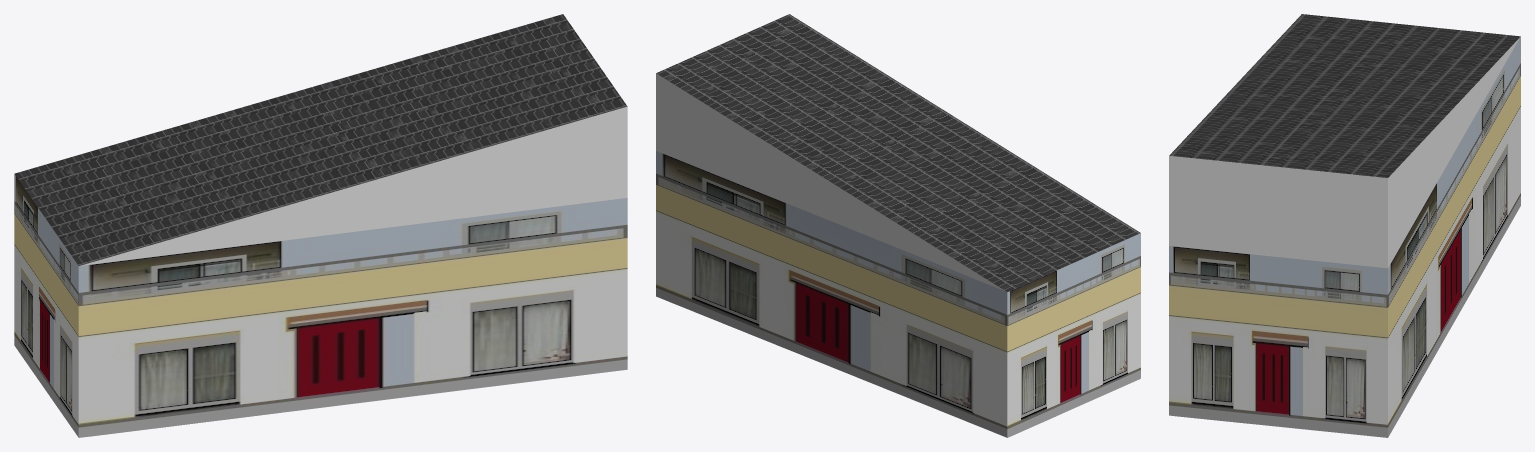
The picture shows the model from 3 angles, left to right: view 1: azimuth 30°, elevation 25°; view 2: azimuth 150°, elevation 25°; view 3: azimuth 270°, elevation 25°; orthographic projection. The views are drawn at different scales.
Parts seen in each view (by area): view 1: CityEngineMaterial_15_m, CityEngineMaterial_16_m, CityEngineMaterial_3_m; view 2: CityEngineMaterial_15_m, CityEngineMaterial_16_m, CityEngineMaterial_3_m; view 3: CityEngineMaterial_15_m, CityEngineMaterial_16_m, CityEngineMaterial_3_m.
Boxes of the visible parts, bbox=[...] form: CityEngineMaterial_15_m: bbox=[14, 174, 627, 437]; CityEngineMaterial_16_m: bbox=[14, 14, 627, 265]; CityEngineMaterial_3_m: bbox=[80, 106, 627, 265]; CityEngineMaterial_15_m: bbox=[656, 151, 1140, 437]; CityEngineMaterial_16_m: bbox=[656, 14, 1140, 291]; CityEngineMaterial_3_m: bbox=[656, 73, 1006, 291]; CityEngineMaterial_15_m: bbox=[1169, 36, 1520, 437]; CityEngineMaterial_16_m: bbox=[1169, 14, 1520, 177]; CityEngineMaterial_3_m: bbox=[1169, 37, 1520, 268].
Bounding box in the file's own units: 25.95 × 12.36 × 15.16.
